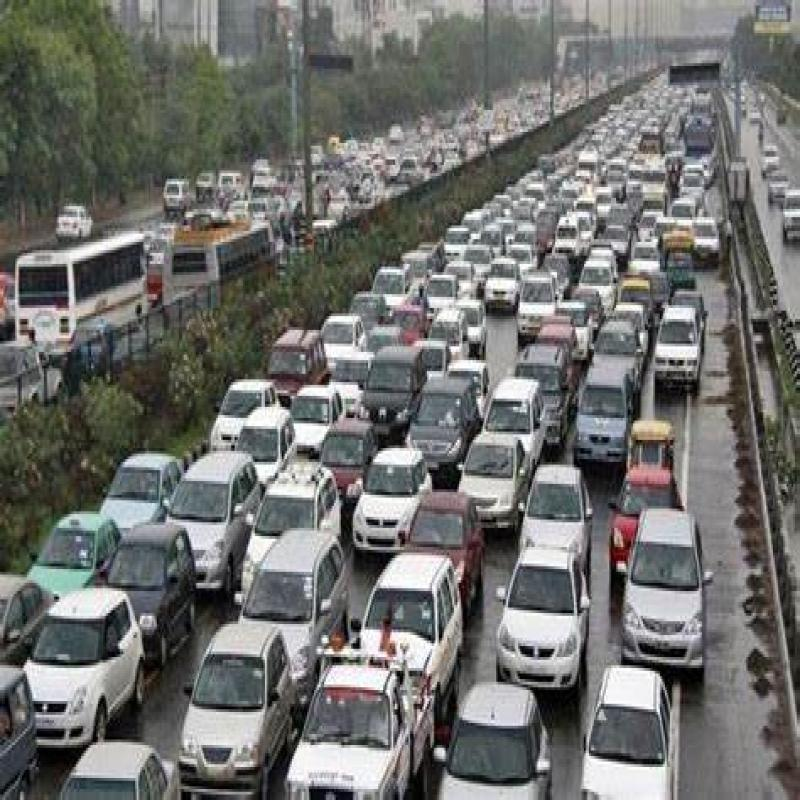car: (184, 619, 278, 787), (622, 499, 708, 674), (296, 658, 400, 800), (361, 548, 459, 678), (34, 586, 124, 723), (507, 538, 582, 701), (107, 528, 202, 656), (582, 660, 668, 800), (446, 674, 540, 800), (260, 524, 344, 664), (262, 461, 329, 579), (361, 315, 420, 442), (180, 444, 237, 574), (401, 495, 478, 589), (360, 442, 424, 552), (462, 427, 519, 540), (412, 377, 481, 461), (568, 377, 621, 471), (105, 449, 160, 535), (497, 370, 546, 454), (280, 318, 333, 387)
